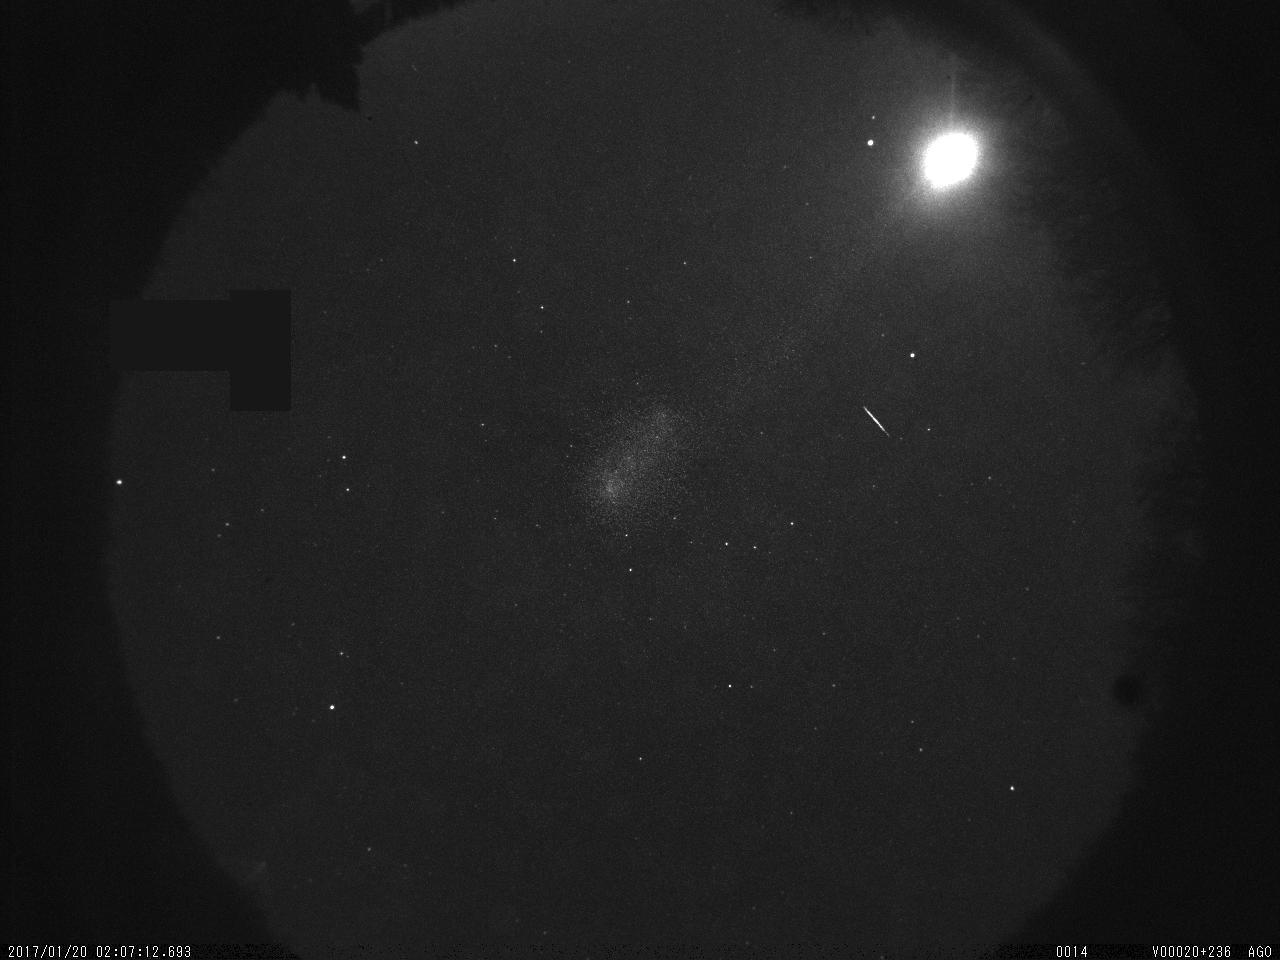meteor: (854, 393, 901, 448)
